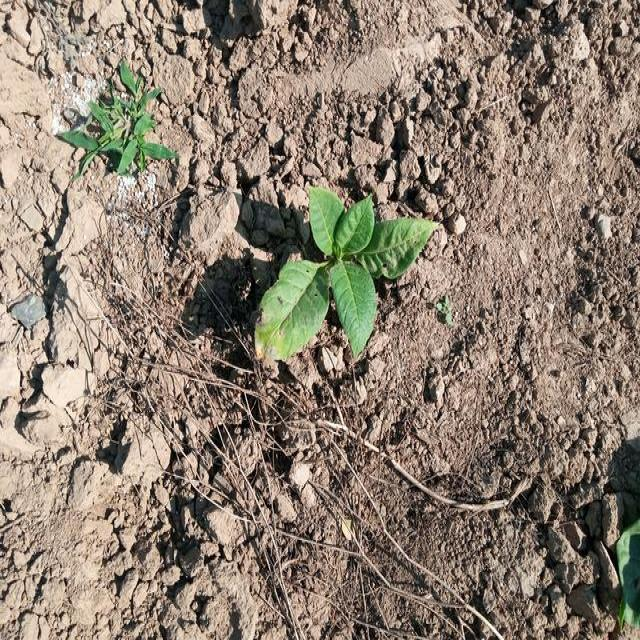crop: (258, 175, 432, 374)
